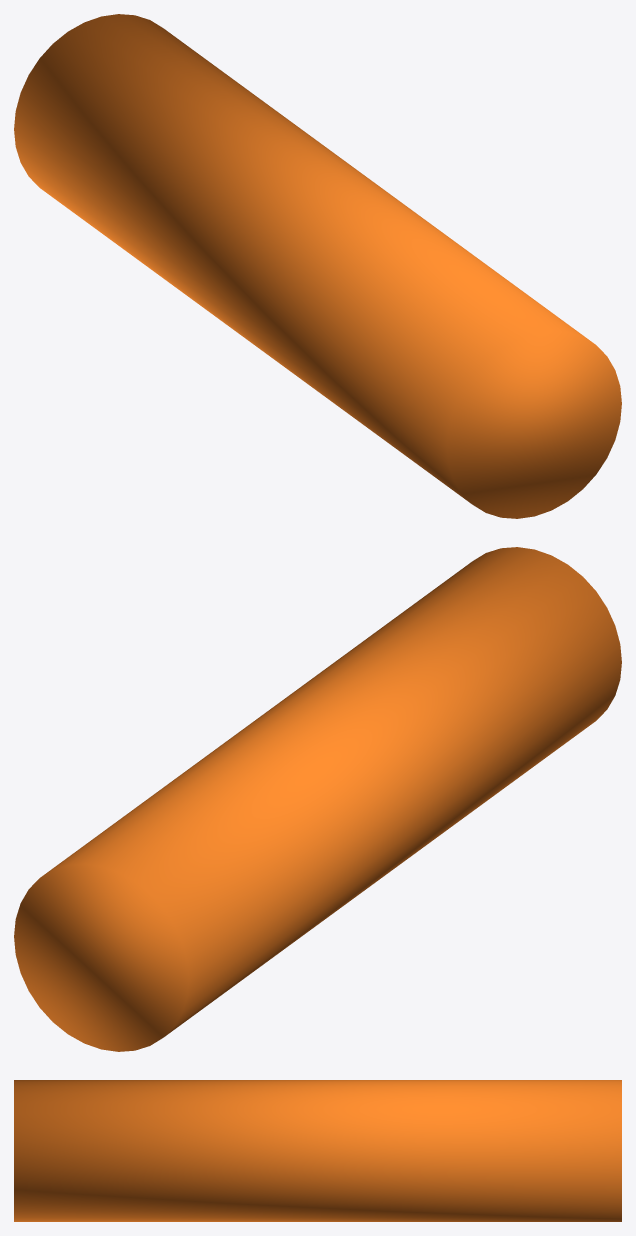
Rendered from SEDAN_HV_DCDC_Cable_Inlet.glb.
3 renders of one model, top to bottom at view 1: azimuth 30°, elevation 25°; view 2: azimuth 150°, elevation 25°; view 3: azimuth 270°, elevation 25°, orthographic. The views are drawn at different scales.
Parts seen in each view (by area): view 1: SEDAN_HV_DCDC_Cable_Inlet; view 2: SEDAN_HV_DCDC_Cable_Inlet; view 3: SEDAN_HV_DCDC_Cable_Inlet.
Boxes of the visible parts, left/top/right/bottom form: SEDAN_HV_DCDC_Cable_Inlet: left=14, top=14, right=621, bottom=518; SEDAN_HV_DCDC_Cable_Inlet: left=14, top=547, right=621, bottom=1051; SEDAN_HV_DCDC_Cable_Inlet: left=14, top=1080, right=621, bottom=1221.
Size of the model in its own units: 0.028 by 0.028 by 0.12.
